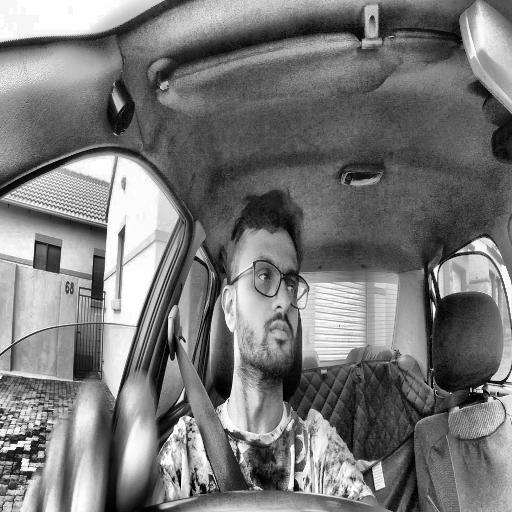awake: (220, 185, 310, 381)
